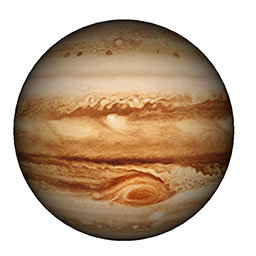planet: (13, 17, 235, 241)
